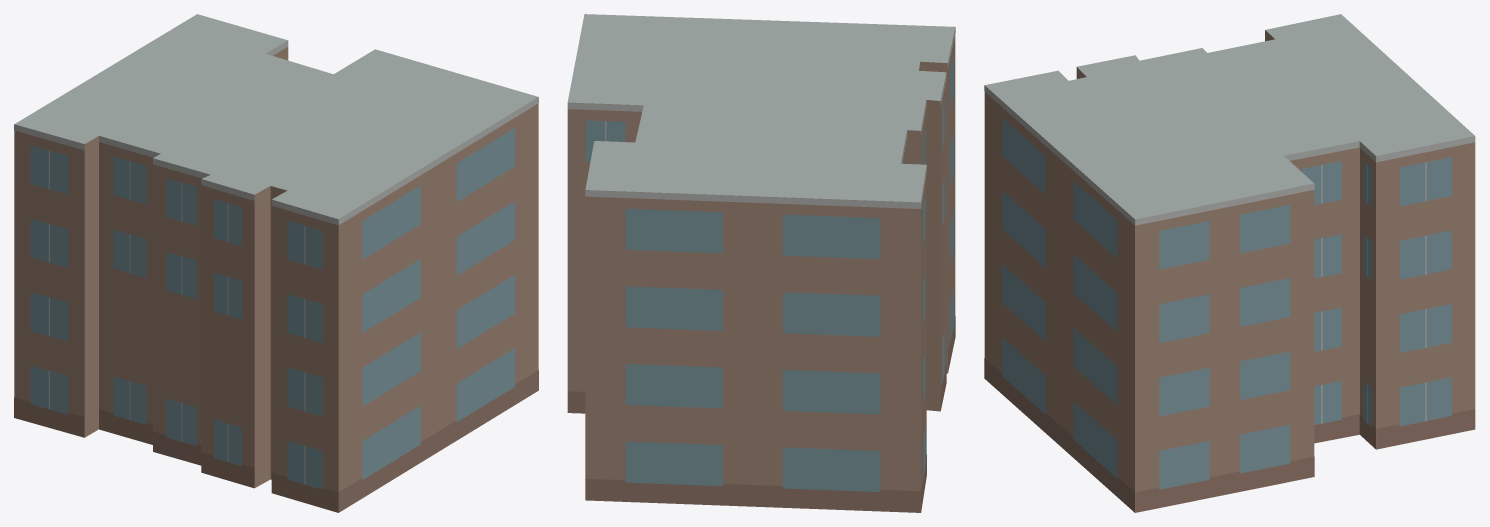
File: survey-upis-32980905.glb
The picture shows the model from 3 angles, left to right: view 1: azimuth 30°, elevation 25°; view 2: azimuth 150°, elevation 25°; view 3: azimuth 270°, elevation 25°; orthographic projection. The views are drawn at different scales.
Visible parts, largest first — view 1: survey-upis-32980905.tmp; view 2: survey-upis-32980905.tmp; view 3: survey-upis-32980905.tmp.
Part boxes in pixels (left/top/right/bottom): survey-upis-32980905.tmp: left=14, top=14, right=538, bottom=512; survey-upis-32980905.tmp: left=567, top=14, right=955, bottom=512; survey-upis-32980905.tmp: left=984, top=14, right=1475, bottom=512.
Bounding box in the file's own units: 17.28 × 11.5 × 17.45.
